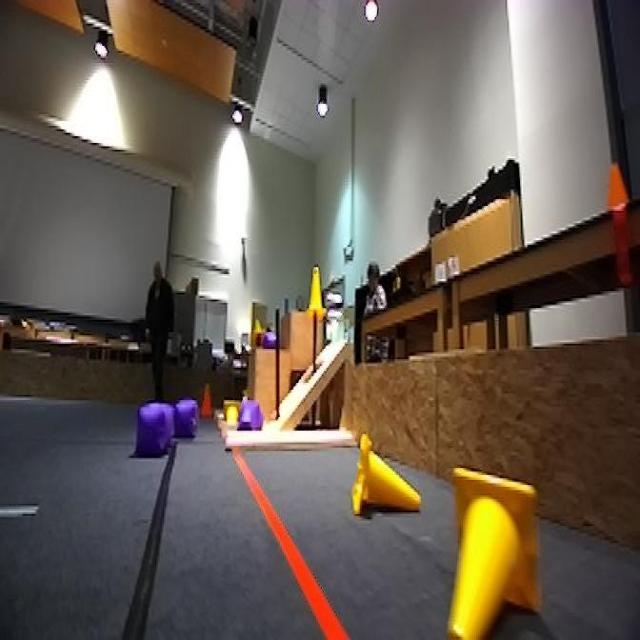frc_cone: (449, 461, 538, 640), (351, 431, 422, 519), (308, 264, 326, 315), (220, 402, 242, 424)
frc_cube: (136, 405, 174, 460), (176, 398, 198, 438), (238, 397, 257, 427), (262, 326, 279, 351)
